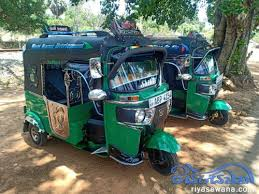tuk tuk: (20, 35, 180, 175), (174, 34, 233, 126)
